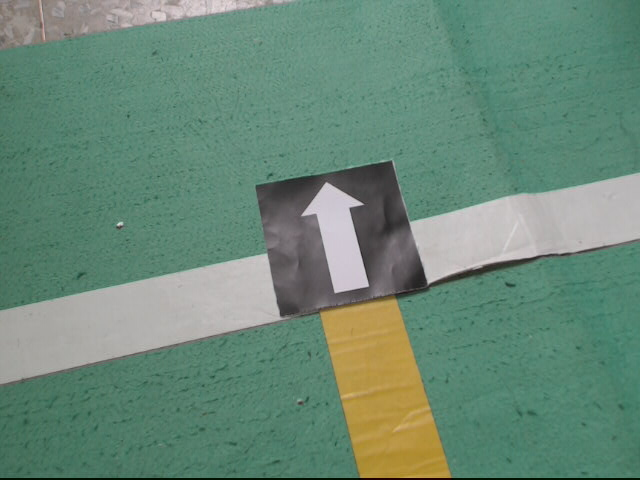straight: (256, 158, 430, 318)
